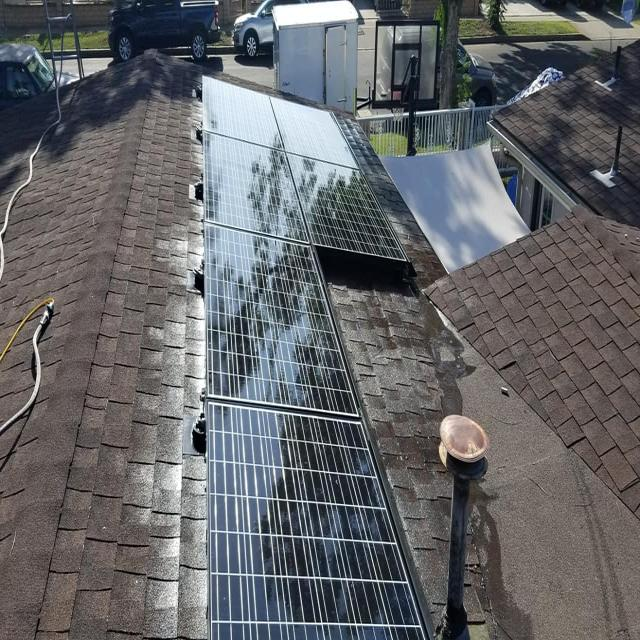clean-solar-panel: (202, 77, 426, 637)
